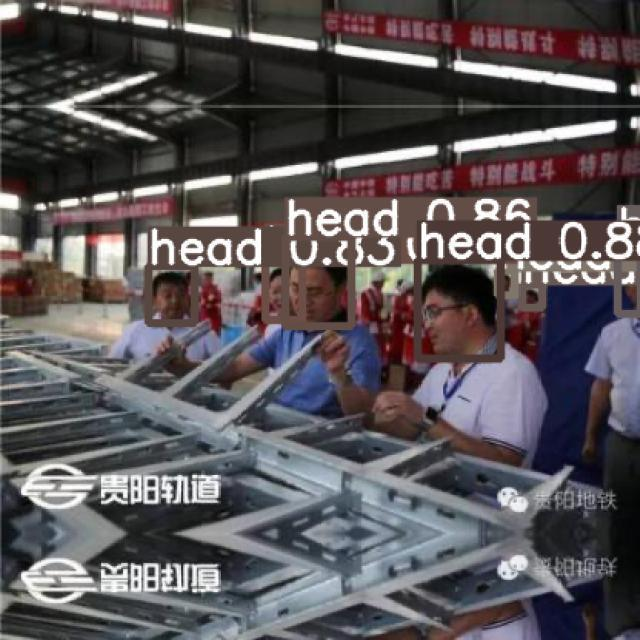white helmet: (419, 263, 503, 353), (292, 251, 350, 321), (152, 272, 190, 319), (265, 264, 287, 315)
